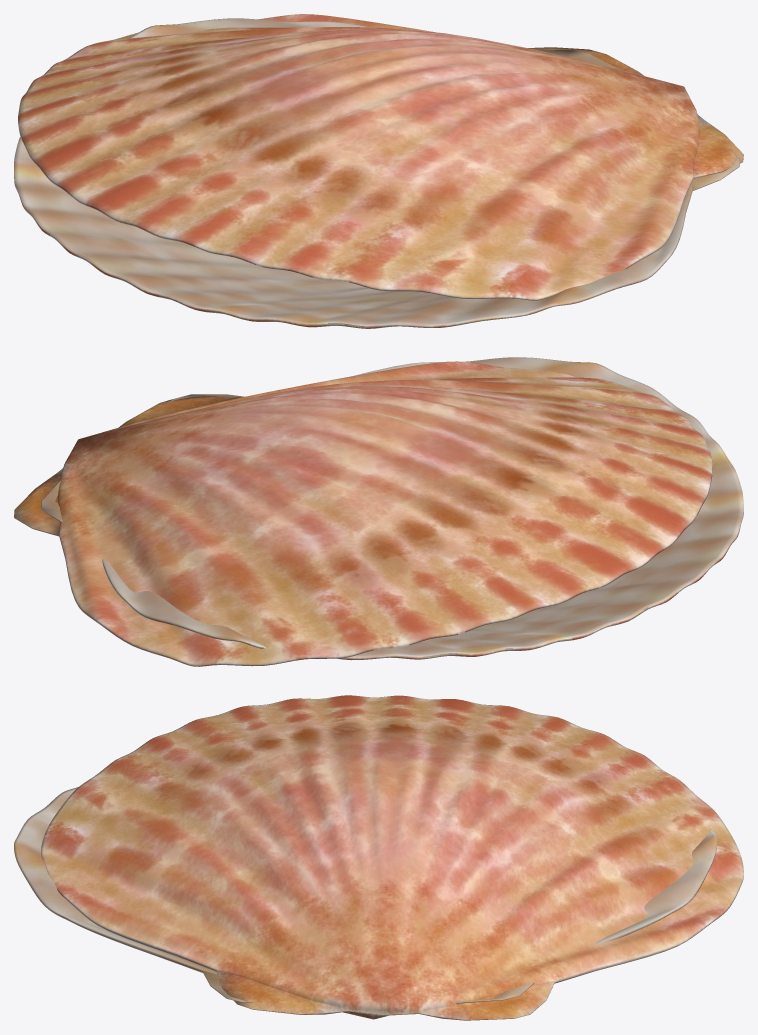
The model's file is scallop.dae.
The picture shows the model from 3 angles, top to bottom: view 1: azimuth 30°, elevation 25°; view 2: azimuth 150°, elevation 25°; view 3: azimuth 270°, elevation 25°; orthographic projection. The views are drawn at different scales.
Parts seen in each view (by area): view 1: seashell_obj.002; view 2: seashell_obj.002; view 3: seashell_obj.002.
Part boxes in pixels (x1,y1,x2,y2): seashell_obj.002: [14, 14, 743, 328]; seashell_obj.002: [14, 357, 743, 666]; seashell_obj.002: [14, 695, 743, 1020].
Size of the model in its own units: 0.0833 by 0.0919 by 0.0241.
Materials: 2 (2 with a texture image).
